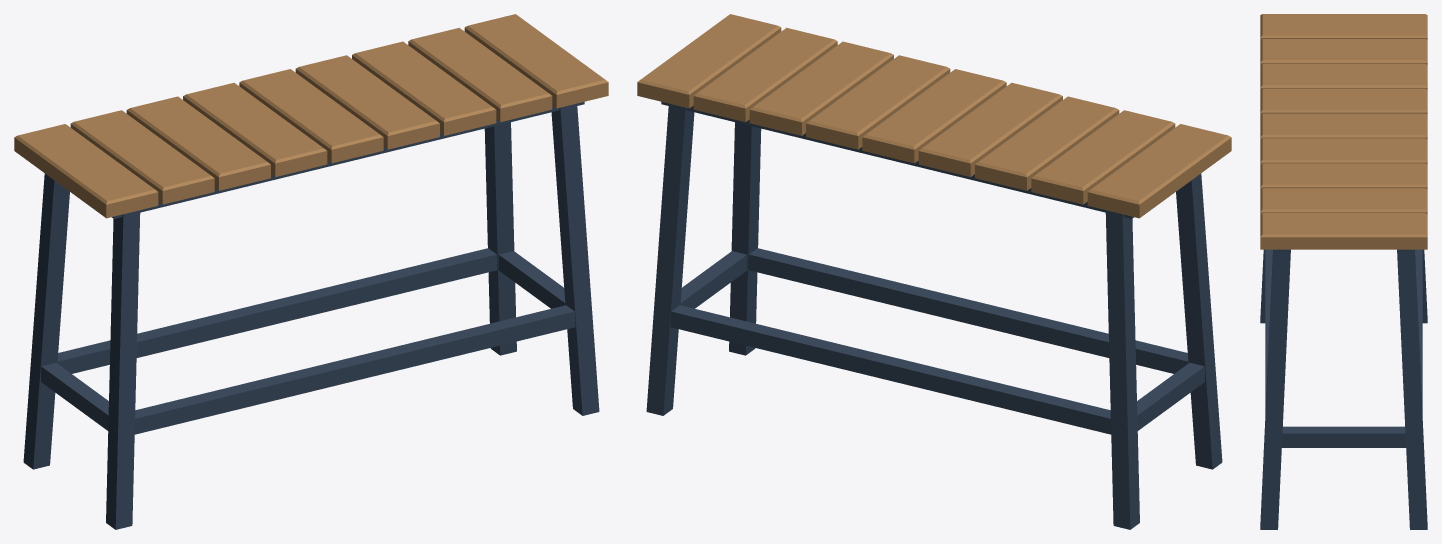
File: FN_Bench_Bar.glb
3 views of the same model, side by side, from view 1: azimuth 30°, elevation 25°; view 2: azimuth 150°, elevation 25°; view 3: azimuth 270°, elevation 25° (orthographic). The views are drawn at different scales.
Visible parts, largest first — view 1: FN_Bench_Bar; view 2: FN_Bench_Bar; view 3: FN_Bench_Bar.
Boxes of the visible parts, x1=… form: FN_Bench_Bar: x1=14, y1=14, x2=608, y2=529; FN_Bench_Bar: x1=637, y1=14, x2=1231, y2=529; FN_Bench_Bar: x1=1260, y1=14, x2=1427, y2=529.
Bounding box in the file's own units: 1.2 × 0.75 × 0.38.
1 material, 1 textured.
